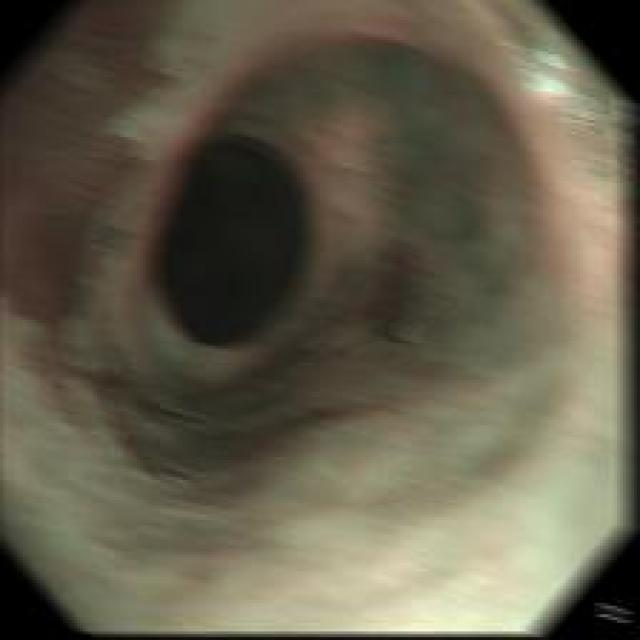blur: (0, 1, 639, 638)
color misalignment: (496, 35, 634, 226)
contrast: (122, 99, 519, 476)
